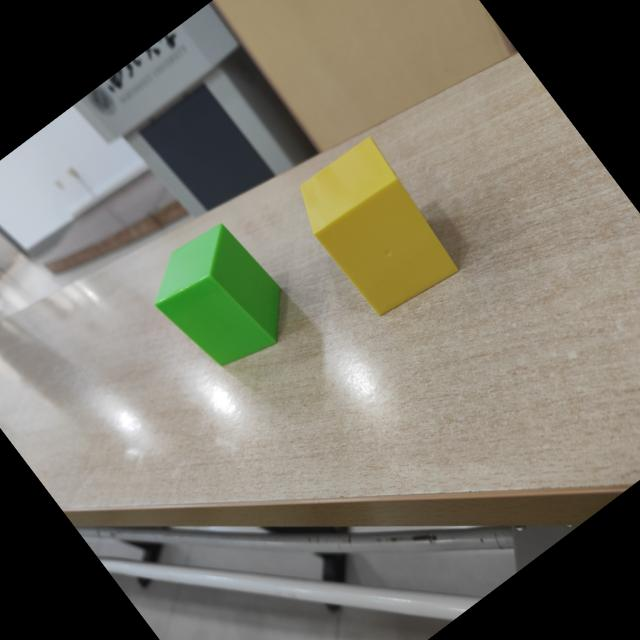green: (155, 224, 284, 368)
yellow: (301, 136, 459, 318)
